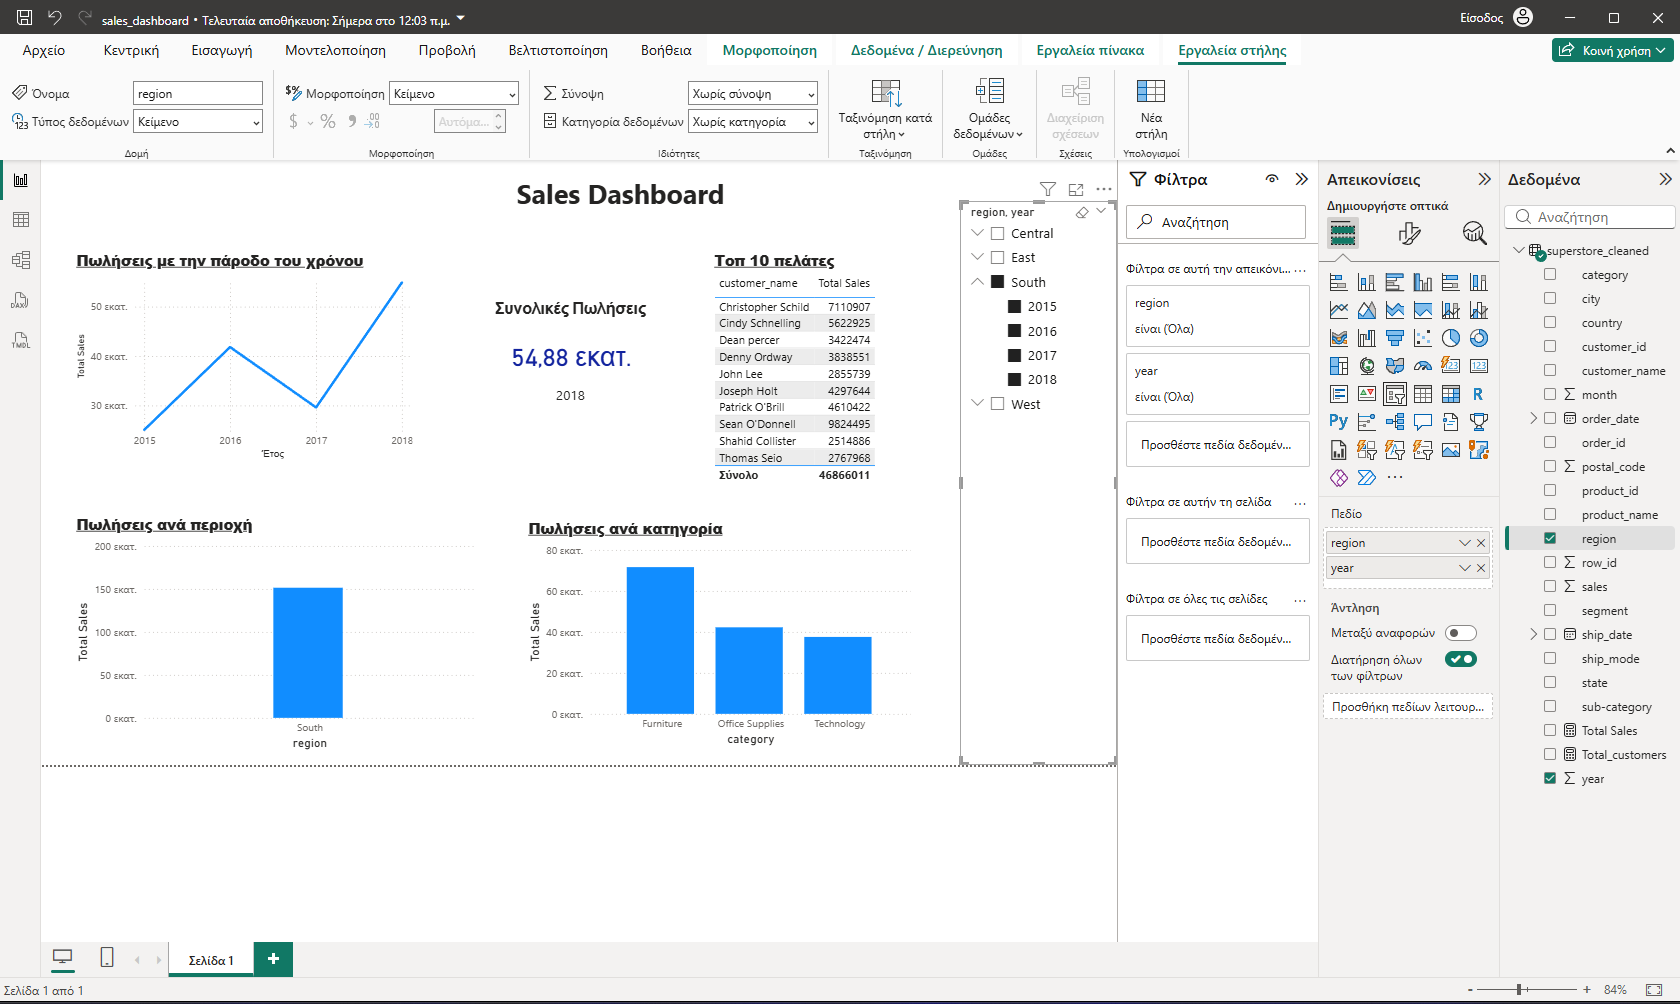

The page's visual inventory and layout, read from the dashboard file:
{"tool":"powerbi","page":{"name":"Σελίδα 1","canvas":[1280,720],"ordinal":0},"visuals":[{"type":"lineChart","title":"Πωλήσεις με την πάροδο του χρόνου","fields":{"Category":["superstore_cleaned.order_date.Παραλλαγή.Ιεραρχία ημερομηνιών.Έτος","superstore_cleaned.order_date.Παραλλαγή.Ιεραρχία ημερομηνιών.Τρίμηνο","superstore_cleaned.order_date.Παραλλαγή.Ιεραρχία ημερομηνιών.Μήνας","superstore_cleaned.order_date.Παραλλαγή.Ιεραρχία ημερομηνιών.Ημέρα"],"Y":["superstore_cleaned.Total Sales"]},"box":[36.9,107.1,410.4,253.4],"z":1000},{"type":"columnChart","title":"Πωλήσεις ανά κατηγορία","fields":{"Category":["superstore_cleaned.category"],"Y":["superstore_cleaned.Total Sales"]},"box":[574.6,425.9,465.1,276],"z":2000},{"type":"columnChart","title":"Πωλήσεις ανά περιοχή","fields":{"Category":["superstore_cleaned.region"],"Y":["superstore_cleaned.Total Sales"]},"box":[36.9,421.1,484.2,285.5],"z":3000},{"type":"tableEx","title":"Τοπ 10 πελάτες","fields":{"Values":["superstore_cleaned.customer_name","superstore_cleaned.Total Sales"]},"box":[795.8,107.1,226,310.5],"z":4000},{"type":"kpi","title":"Συνολικές Πωλήσεις","fields":{"Indicator":["superstore_cleaned.Total Sales"],"Goal":["Sum(superstore_cleaned.year)","Sum(superstore_cleaned.month)"],"TrendLine":["superstore_cleaned.year"]},"box":[484.2,166.5,291.4,134.4],"z":5000},{"type":"textbox","box":[484.2,11.9,410.4,72.6],"z":6000},{"type":"slicer","fields":{"Values":["superstore_cleaned.year"]},"box":[1093.2,48.8,186.8,670.9],"z":6001}]}

Visuals, with their boxes on the page's 1280x720 design canvas (x1, y1, x2, y2). These are canvas units, not pixel positions in the 1680x1004 screenshot, which may show the page scaled, cropped or inside an application window:
"Πωλήσεις με την πάροδο του χρόνου" lineChart: <region>37, 107, 447, 360</region>
"Πωλήσεις ανά κατηγορία" columnChart: <region>575, 426, 1040, 702</region>
"Πωλήσεις ανά περιοχή" columnChart: <region>37, 421, 521, 707</region>
"Τοπ 10 πελάτες" tableEx: <region>796, 107, 1022, 418</region>
"Συνολικές Πωλήσεις" kpi: <region>484, 166, 776, 301</region>
textbox: <region>484, 12, 895, 84</region>
slicer - superstore_cleaned.year: <region>1093, 49, 1280, 720</region>
